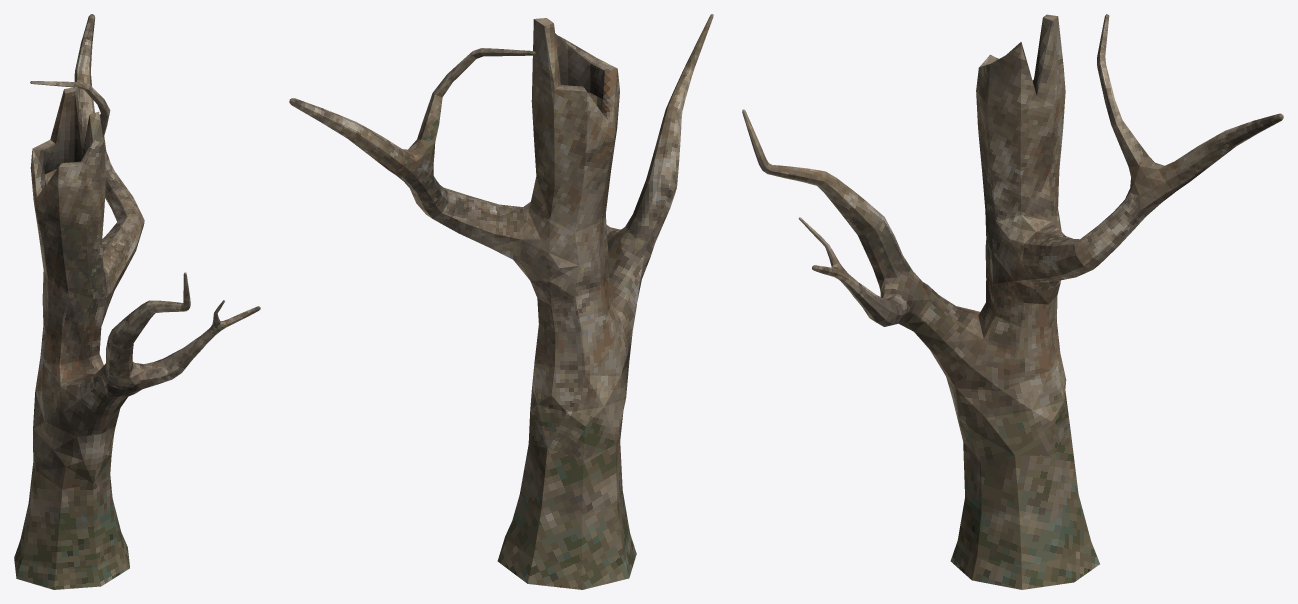
The model's file is Trunk_01.glb.
The picture shows the model from 3 angles, left to right: view 1: azimuth 30°, elevation 25°; view 2: azimuth 150°, elevation 25°; view 3: azimuth 270°, elevation 25°; orthographic projection. The views are drawn at different scales.
Parts seen in each view (by area): view 1: Trunk_01; view 2: Trunk_01; view 3: Trunk_01.
Part boxes in pixels (x1,y1,x2,y2): Trunk_01: (14, 14, 260, 589); Trunk_01: (289, 14, 713, 589); Trunk_01: (742, 14, 1283, 589).
Bounding box in the file's own units: 4.63 × 11.24 × 9.93.
Materials: 1 (1 with a texture image).
